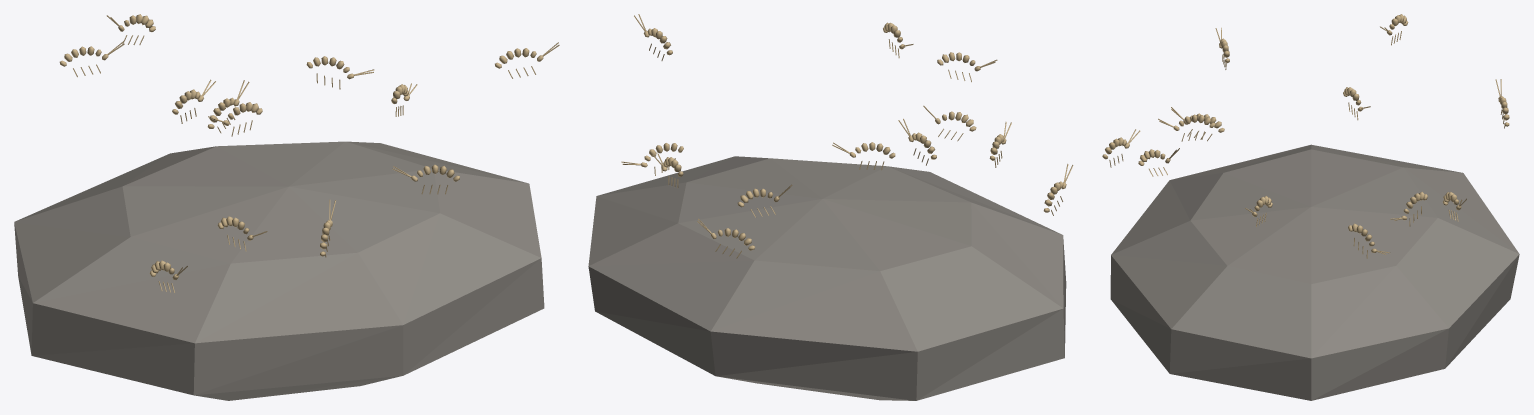
Rendered from lake-gammarus-shallows-0.glb.
3 views of the same model, side by side, from view 1: azimuth 30°, elevation 25°; view 2: azimuth 150°, elevation 25°; view 3: azimuth 270°, elevation 25° (orthographic). The views are drawn at different scales.
Parts seen in each view (by area): view 1: lake-gammarus-shallows-0; view 2: lake-gammarus-shallows-0; view 3: lake-gammarus-shallows-0.
Part boxes in pixels (bbox=[...]): lake-gammarus-shallows-0: bbox=[14, 14, 559, 400]; lake-gammarus-shallows-0: bbox=[588, 14, 1073, 400]; lake-gammarus-shallows-0: bbox=[1102, 14, 1519, 400].
Size of the model in its own units: 0.1912 by 0.1127 by 0.1584.
